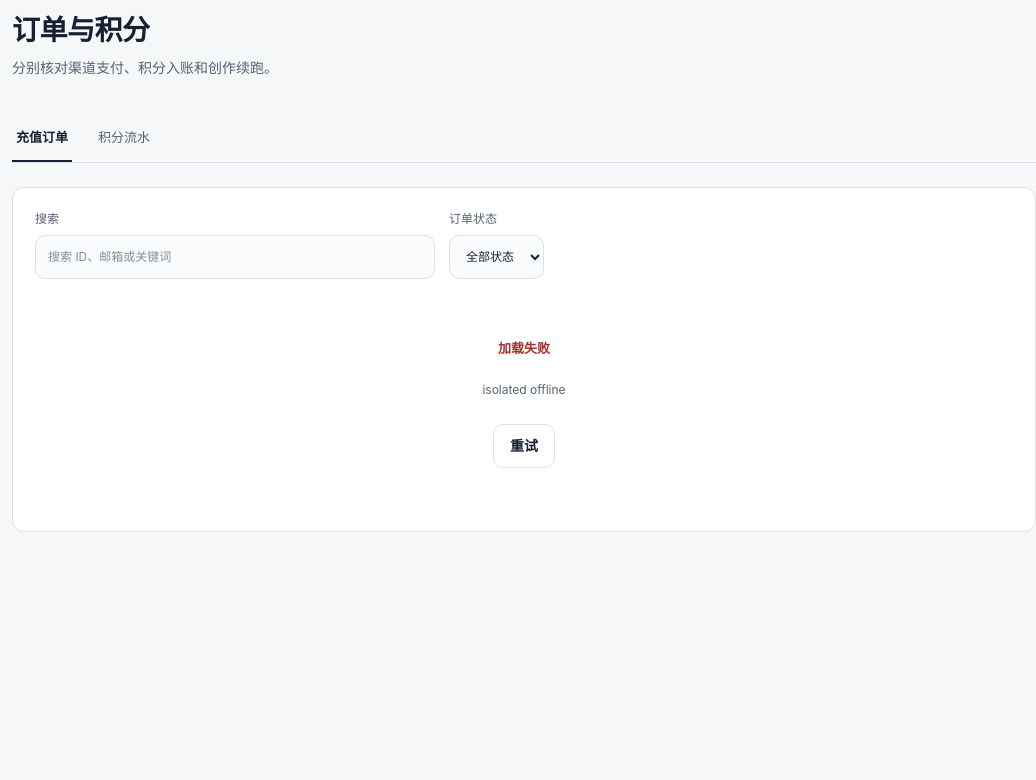
Test: admin list error has retry and never becomes empty
The width and height of the screenshot is (1036, 780).
Expected: the message "加载失败 isolated offline 重试" is shown, [482,340,566,468]
Expected: the text "暂无订单" is not shown
Step 1. Click the button "重试" → (524, 446), box [493,424,555,468]
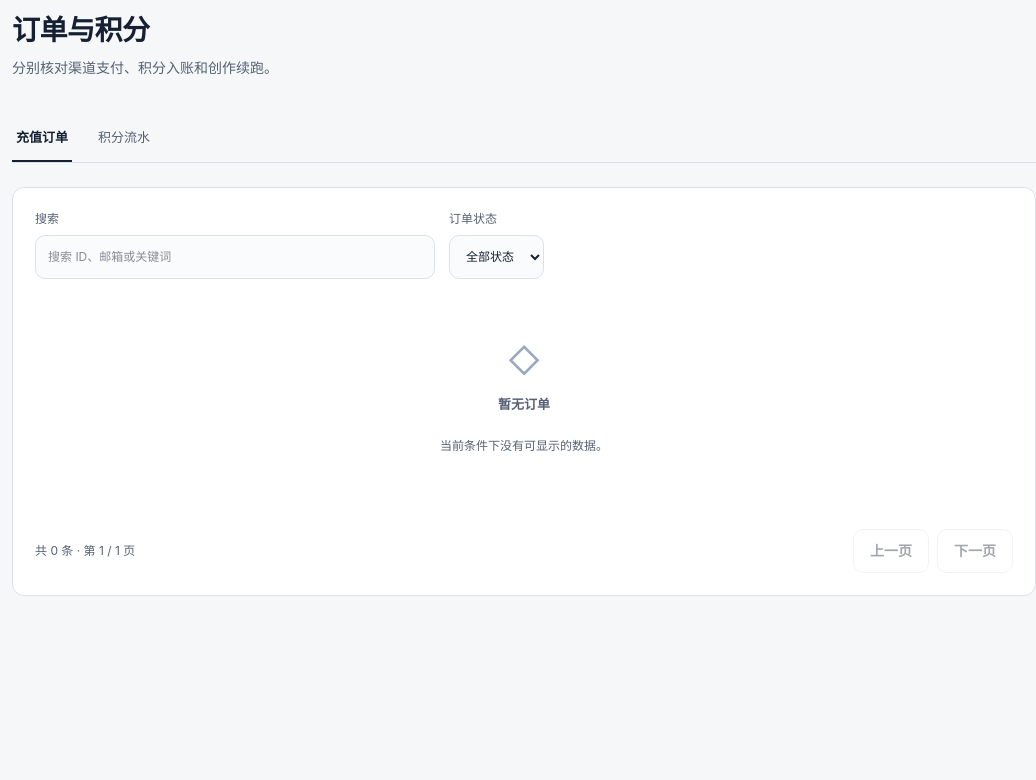
Expected: the text "暂无订单" is shown, [498,395,550,415]
